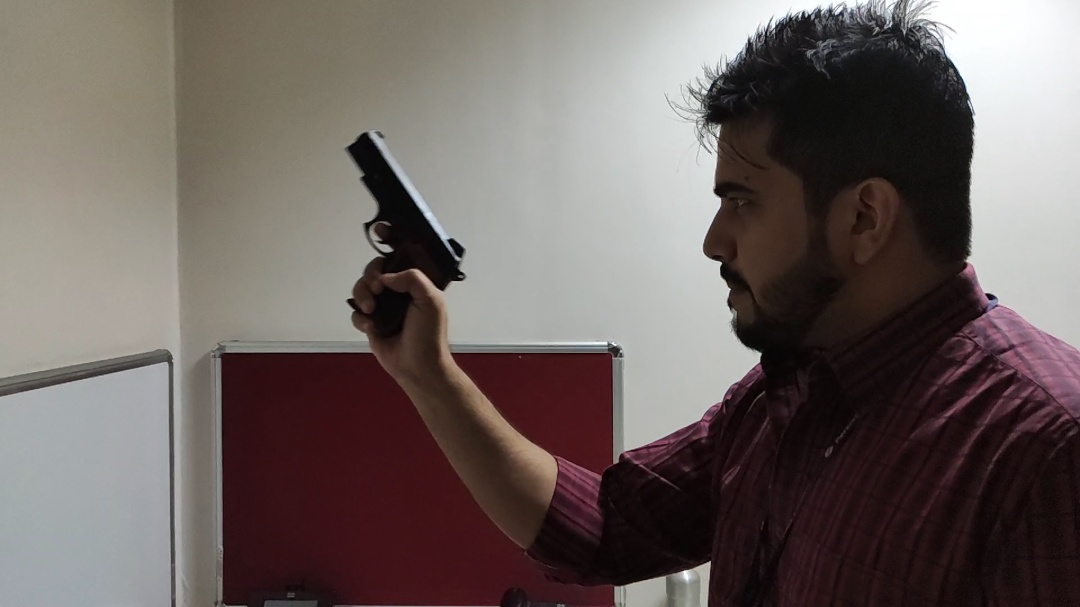gun: (341, 128, 469, 350)
